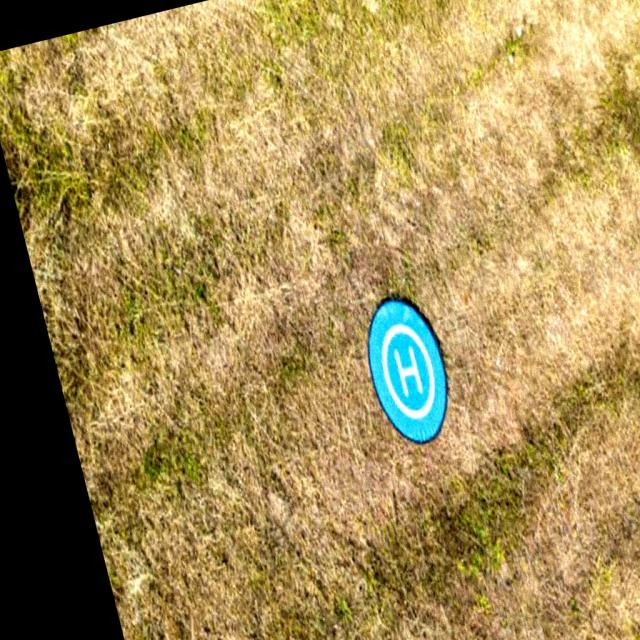helipad: (378, 320, 438, 421)
